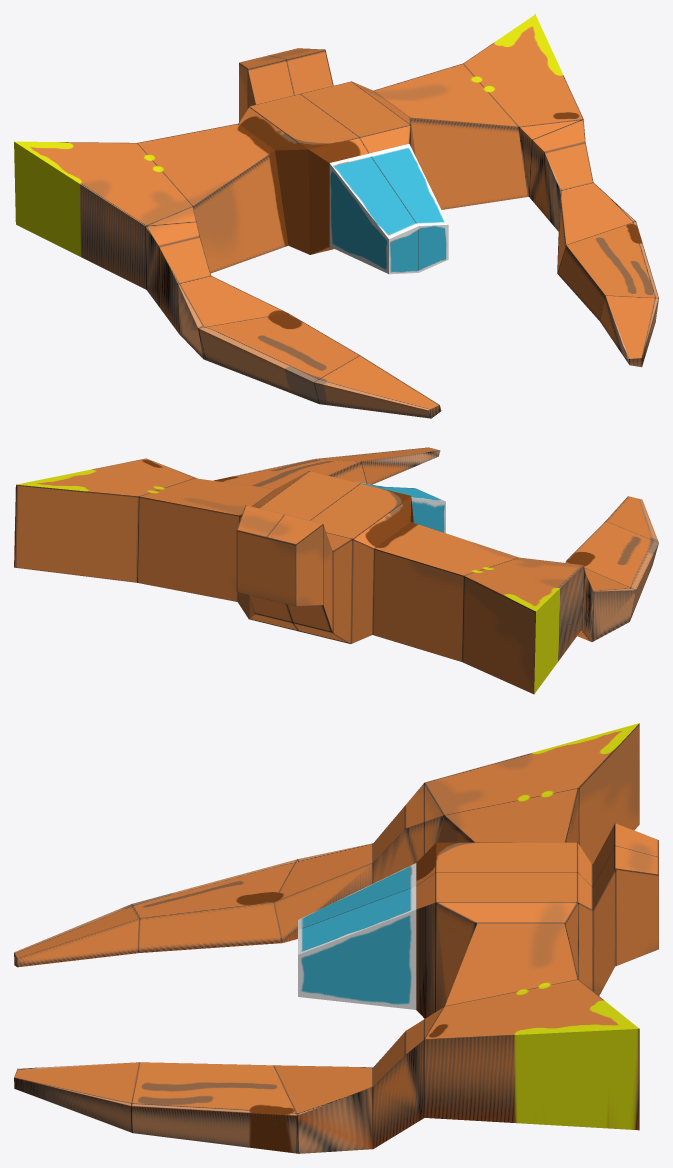
The model's file is enemyLoh1Model.fbx.
3 renders of one model, top to bottom at view 1: azimuth 30°, elevation 25°; view 2: azimuth 150°, elevation 25°; view 3: azimuth 270°, elevation 25°, orthographic. The views are drawn at different scales.
Visible parts, largest first — view 1: Cube.001; view 2: Cube.001; view 3: Cube.001.
Part boxes in pixels (box(x1,y1,x2,y2)): Cube.001: box(14, 14, 658, 418); Cube.001: box(14, 447, 658, 694); Cube.001: box(14, 723, 658, 1153).
Size of the model in its own units: 176 by 50.5 by 156.
1 material, 1 textured.
